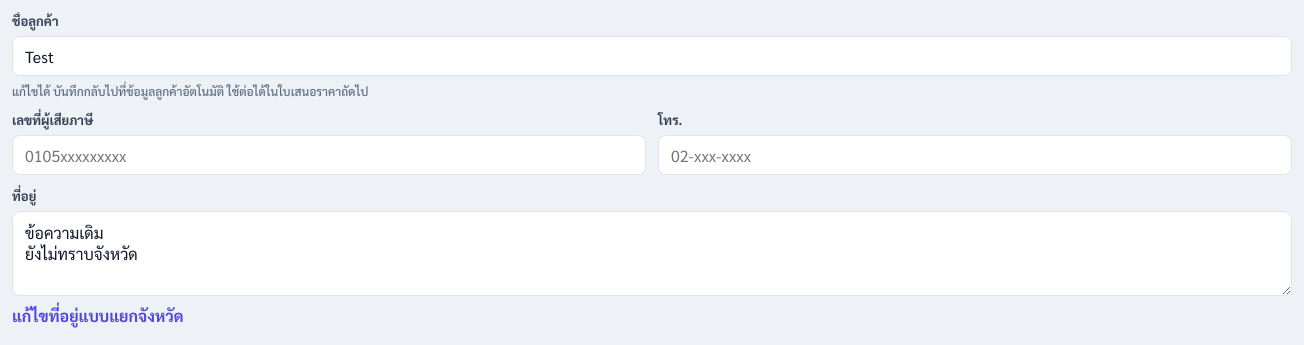
Test: a save response re-seeds the field with the SERVER value, even if normalised
Type "0105556000000" into the field labelled "เลขที่ผู้เสียภาษี" at (329, 155), box [12, 135, 646, 175]
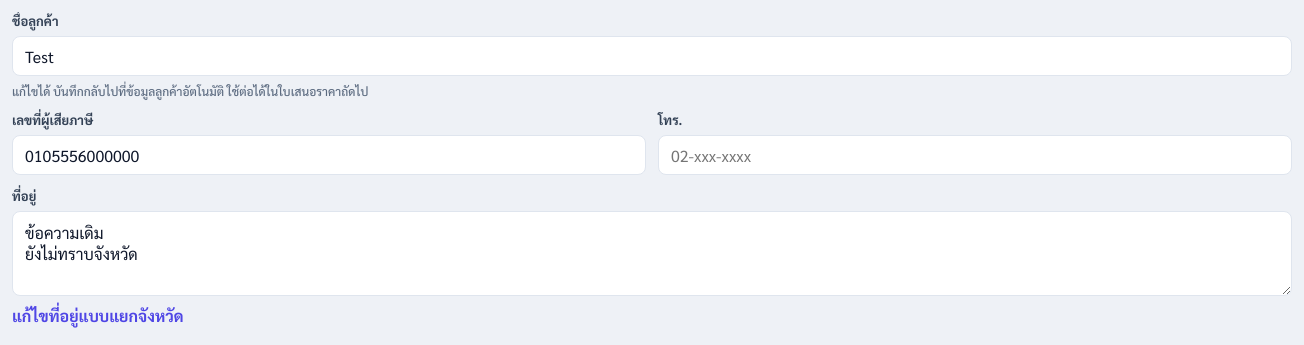
Leave the field labelled "เลขที่ผู้เสียภาษี", box [12, 135, 646, 175]
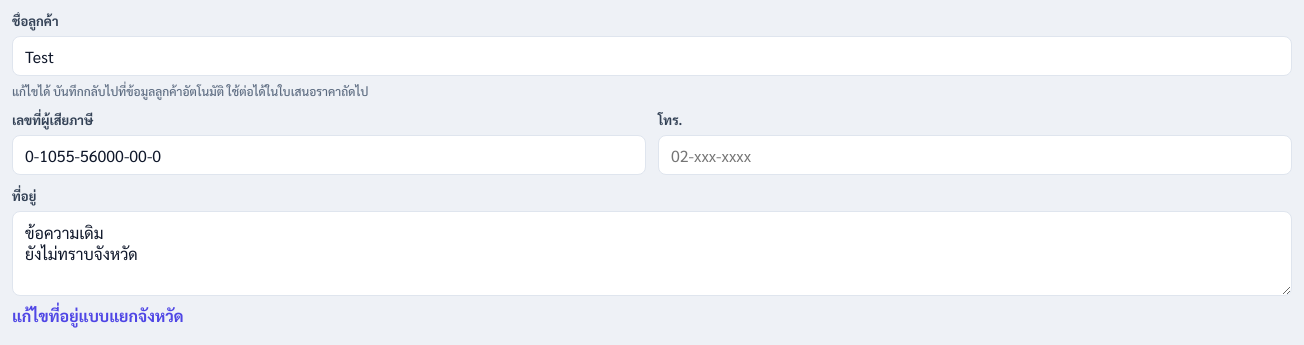
Expected: the field labelled "เลขที่ผู้เสียภาษี" holds "0-1055-56000-00-0", [12, 135, 646, 175]
